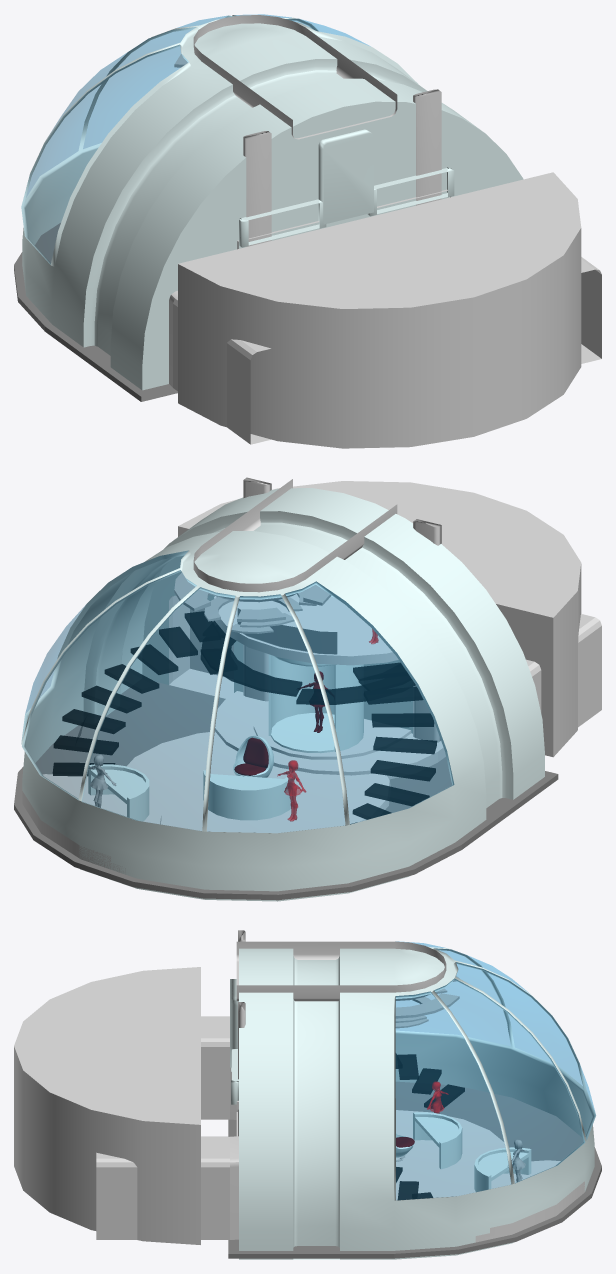
Rendered from haikei.fbx.
3 views of the same model, one above another, from view 1: azimuth 30°, elevation 25°; view 2: azimuth 150°, elevation 25°; view 3: azimuth 270°, elevation 25° (orthographic). The views are drawn at different scales.
Parts seen in each view (by area): view 1: pCylinder37, pCylinder38, polySurface8, polySurface10, pCylinder24, polySurface11, polySurface3; view 2: pCylinder37, polySurface11, pCylinder38, polySurface10, polySurface8, polySurface3, polySurface9, polySurface23, pCylinder8, polySurface13, pCylinder34, pCylinder31 (+12 smaller); view 3: pCylinder37, pCylinder38, polySurface7, polySurface9, polySurface3, polySurface10, pCylinder24, pCylinder8, polySurface8, polySurface11, pCylinder23, polySurface13 (+3 smaller).
Boxes of the visible parts, x1,y1,x2,y2 form: pCylinder37: (21,15,601,444); pCylinder38: (178,172,581,448); polySurface8: (22,45,187,263); polySurface10: (83,16,231,148); pCylinder24: (193,15,397,139); polySurface11: (27,27,195,194); polySurface3: (14,223,177,401); pCylinder37: (21,477,601,901); polySurface11: (207,595,344,832); pCylinder38: (178,481,581,757); polySurface10: (82,587,234,830); polySurface8: (286,582,453,823); polySurface3: (14,682,558,900); polySurface9: (22,570,196,799); polySurface23: (214,594,445,779); pCylinder8: (127,731,390,833); polySurface13: (52,611,437,824); pCylinder34: (268,654,363,753); pCylinder31: (203,770,292,820); pCylinder37: (96,930,595,1259); pCylinder38: (14,967,200,1244); polySurface7: (396,992,510,1199); polySurface9: (434,979,584,1182); polySurface3: (228,1081,601,1258); polySurface10: (456,962,595,1138); pCylinder24: (236,941,446,1001); pCylinder8: (396,1110,505,1200); polySurface8: (396,941,509,1045); polySurface11: (437,949,582,1085); pCylinder23: (458,1160,584,1242); polySurface13: (395,1053,464,1200).
Bounding box in the file's own units: 1167 × 669 × 1653.
